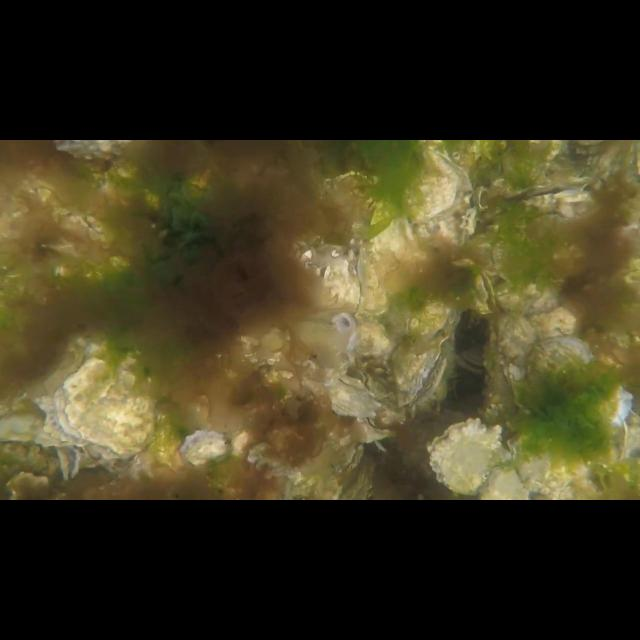Oyster-Closed: (527, 337, 633, 427), (55, 359, 152, 457), (507, 429, 589, 495), (368, 202, 420, 298), (404, 140, 461, 224), (492, 310, 538, 408), (306, 375, 382, 421), (494, 280, 562, 316), (359, 248, 389, 318)
Oyster-Open: (430, 417, 502, 495), (498, 180, 596, 226), (394, 337, 450, 408), (415, 299, 461, 346), (181, 428, 227, 464), (314, 256, 346, 304), (350, 414, 396, 444), (336, 356, 372, 388), (348, 243, 364, 313), (474, 270, 498, 316)
